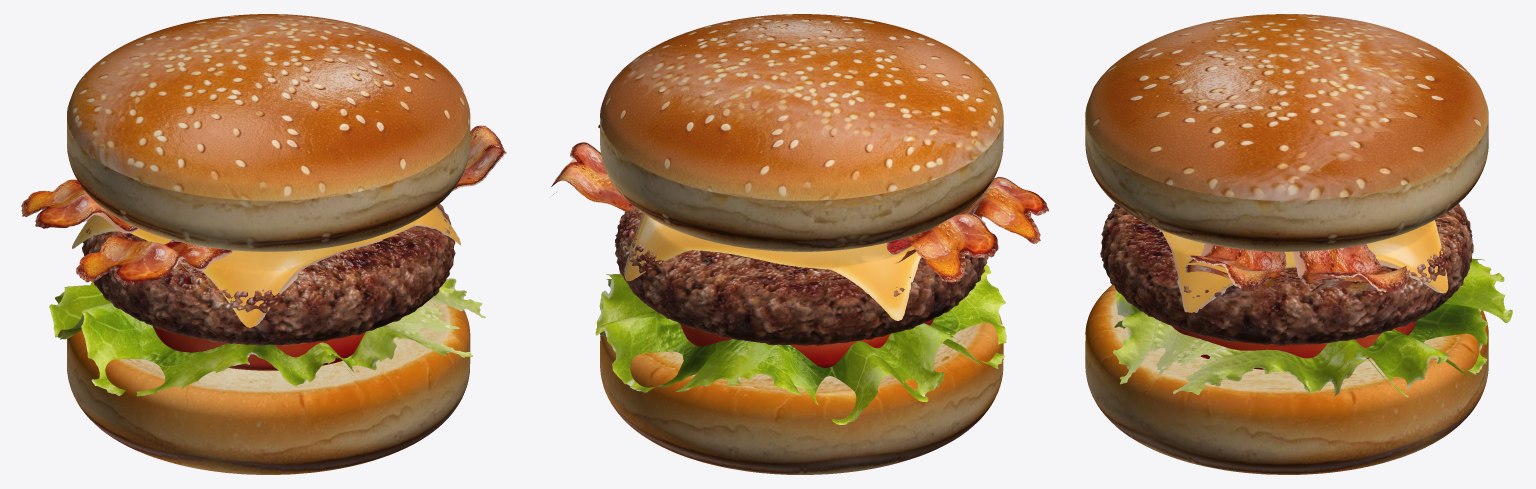
Rendered from xbacon.glb.
3 views of the same model, side by side, from view 1: azimuth 30°, elevation 25°; view 2: azimuth 150°, elevation 25°; view 3: azimuth 270°, elevation 25° (orthographic).
Parts seen in each view (by area): view 1: pao-cima-topo, pao-baixo-lateral, carne, pao-cima-lateral, alface-face, bacon-face (×2), queijo-face, pao-baixo-topo, tomate-lateral; view 2: pao-cima-topo, pao-baixo-lateral, carne, pao-cima-lateral, alface-face, bacon-face (×2), queijo-face, pao-baixo-topo, tomate-lateral; view 3: pao-cima-topo, pao-baixo-lateral, carne, pao-cima-lateral, alface-face, bacon-face (×2), queijo-face, pao-baixo-topo, tomate-lateral.
Boxes of the visible parts, x1,y1,x2,y2 form: pao-cima-topo: [67, 14, 470, 200]; pao-baixo-lateral: [67, 305, 470, 474]; carne: [82, 204, 455, 345]; pao-cima-lateral: [67, 119, 470, 251]; alface-face: [49, 278, 485, 396]; bacon-face (×2): [21, 125, 506, 285]; queijo-face: [72, 206, 460, 327]; pao-baixo-topo: [118, 301, 450, 393]; tomate-lateral: [152, 326, 365, 370]; pao-cima-topo: [600, 14, 1003, 200]; pao-baixo-lateral: [600, 314, 1003, 474]; carne: [615, 208, 988, 345]; pao-cima-lateral: [600, 117, 1003, 251]; alface-face: [595, 264, 1006, 424]; bacon-face (×2): [551, 142, 1048, 282]; queijo-face: [624, 213, 920, 320]; pao-baixo-topo: [643, 323, 982, 393]; tomate-lateral: [680, 318, 933, 367]; pao-cima-topo: [1085, 14, 1488, 200]; pao-baixo-lateral: [1085, 285, 1488, 474]; carne: [1100, 203, 1473, 345]; pao-cima-lateral: [1085, 119, 1488, 251]; alface-face: [1113, 258, 1512, 397]; bacon-face (×2): [1187, 243, 1406, 292]; queijo-face: [1159, 220, 1448, 312]; pao-baixo-topo: [1105, 290, 1463, 393]; tomate-lateral: [1172, 321, 1416, 369].
Size of the model in its own units: 0.1518 by 0.1138 by 0.1298.
18 materials, 18 textured.
